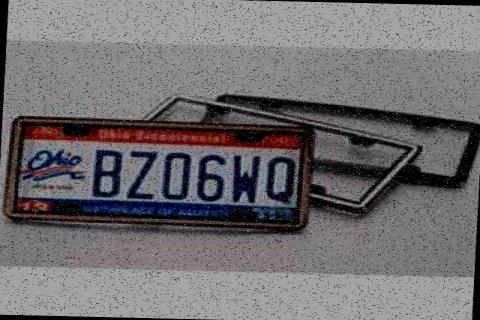LicensePlate: (22, 133, 302, 203)
